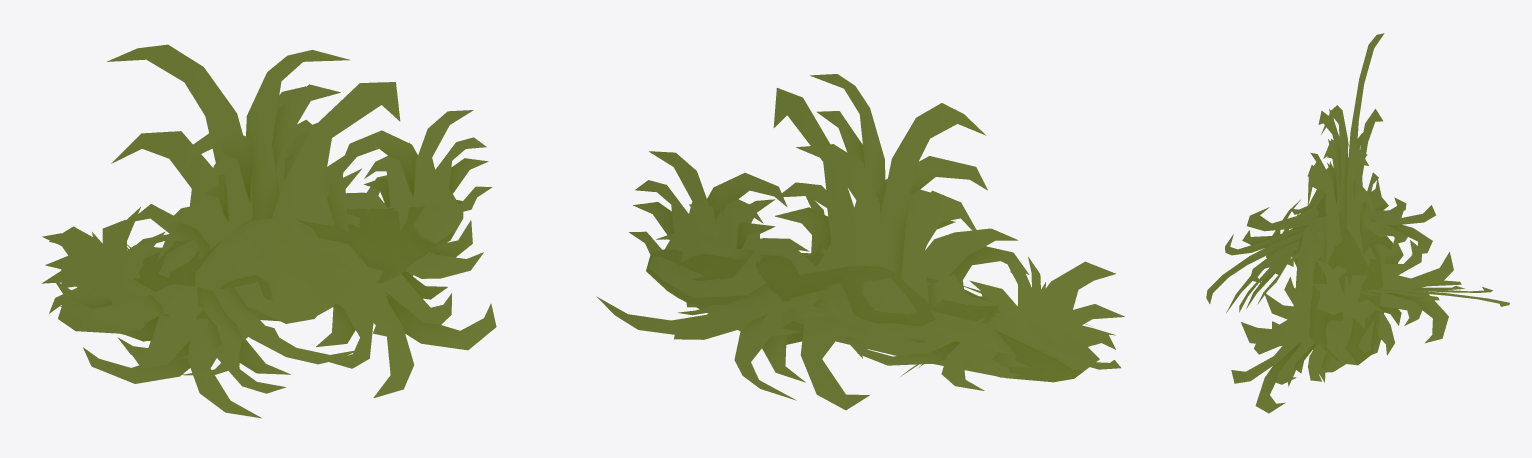
The model's file is SM_Env_Grass_Blob_02.fbx.
3 renders of one model, left to right at view 1: azimuth 30°, elevation 25°; view 2: azimuth 150°, elevation 25°; view 3: azimuth 270°, elevation 25°, orthographic. The views are drawn at different scales.
Parts seen in each view (by area): view 1: SM_Env_Grass_Blob_02; view 2: SM_Env_Grass_Blob_02; view 3: SM_Env_Grass_Blob_02.
Boxes of the visible parts, left/top/right/bottom form: SM_Env_Grass_Blob_02: left=42, top=44, right=496, bottom=418; SM_Env_Grass_Blob_02: left=596, top=74, right=1124, bottom=410; SM_Env_Grass_Blob_02: left=1206, top=33, right=1509, bottom=413.
Bounding box in the file's own units: 88.23 × 58.87 × 57.52.
